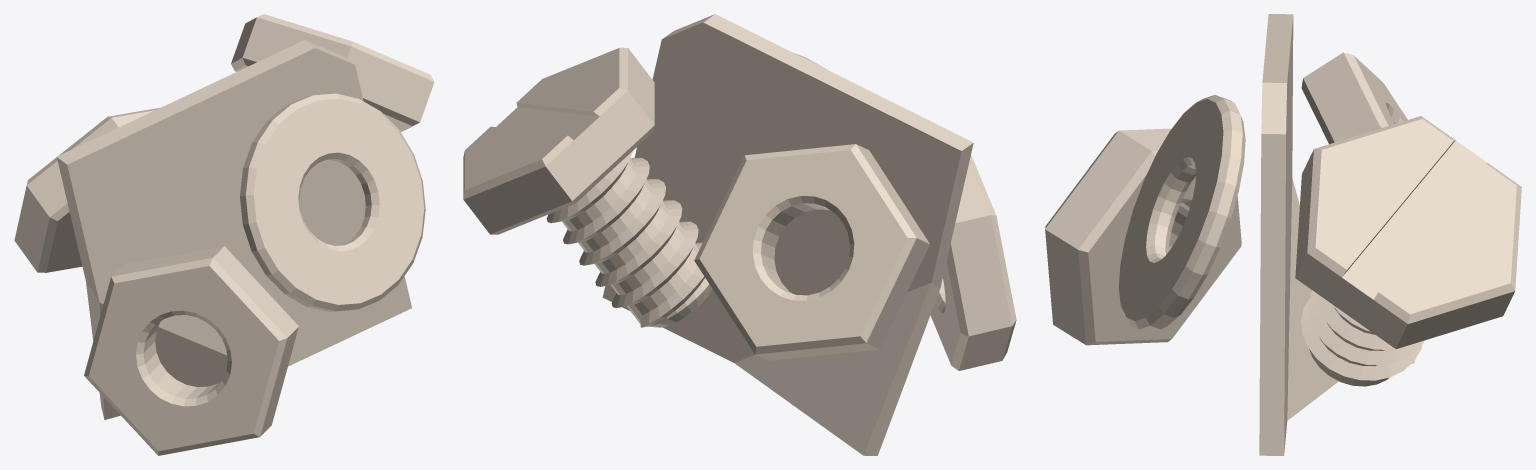
Rendered from Pisces_Scrap_Pickup (1).fbx.
The picture shows the model from 3 angles, left to right: view 1: azimuth 30°, elevation 25°; view 2: azimuth 150°, elevation 25°; view 3: azimuth 270°, elevation 25°; orthographic projection. The views are drawn at different scales.
Visible parts, largest first — view 1: Plate, Nut.001, Washer, Bolt, Nut; view 2: Plate, Bolt, Nut, Nut.001; view 3: Bolt, Washer, Nut.001, Plate, Nut.
Boxes of the visible parts, bbox=[...] form: Plate: bbox=[57, 40, 411, 419]; Nut.001: bbox=[84, 246, 298, 455]; Washer: bbox=[240, 93, 425, 311]; Bolt: bbox=[231, 14, 434, 131]; Nut: bbox=[14, 107, 160, 272]; Plate: bbox=[602, 14, 973, 455]; Bolt: bbox=[463, 47, 712, 327]; Nut: bbox=[694, 144, 929, 360]; Nut.001: bbox=[930, 155, 1016, 370]; Bolt: bbox=[1295, 116, 1521, 386]; Washer: bbox=[1119, 95, 1245, 333]; Nut.001: bbox=[1045, 128, 1241, 345]; Plate: bbox=[1259, 14, 1338, 455]; Nut: bbox=[1301, 52, 1407, 144].
Size of the model in its own units: 450 by 352 by 384.
